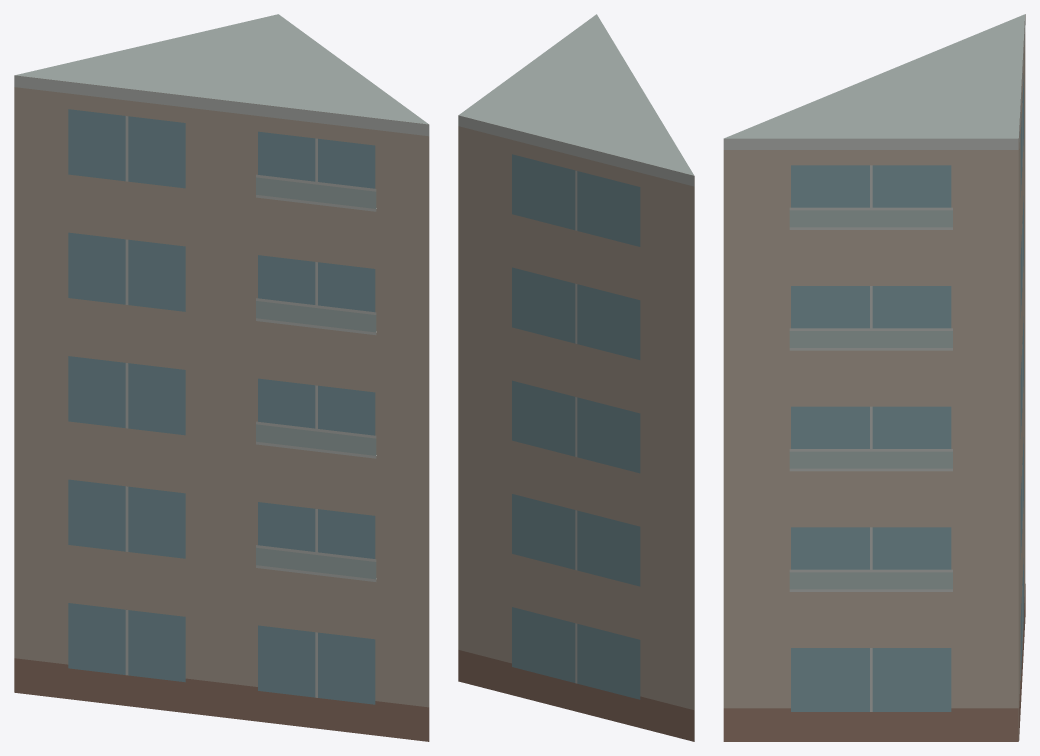
File: survey-upis-32474679.glb
3 views of the same model, side by side, from view 1: azimuth 30°, elevation 25°; view 2: azimuth 150°, elevation 25°; view 3: azimuth 270°, elevation 25° (orthographic). The views are drawn at different scales.
Visible parts, largest first — view 1: survey-upis-32474679.tmp; view 2: survey-upis-32474679.tmp; view 3: survey-upis-32474679.tmp.
Boxes of the visible parts, x1,y1,x2,y2 form: survey-upis-32474679.tmp: [14, 14, 429, 741]; survey-upis-32474679.tmp: [458, 14, 694, 741]; survey-upis-32474679.tmp: [723, 14, 1025, 741].
Size of the model in its own units: 5.71 by 12.8 by 5.81.
